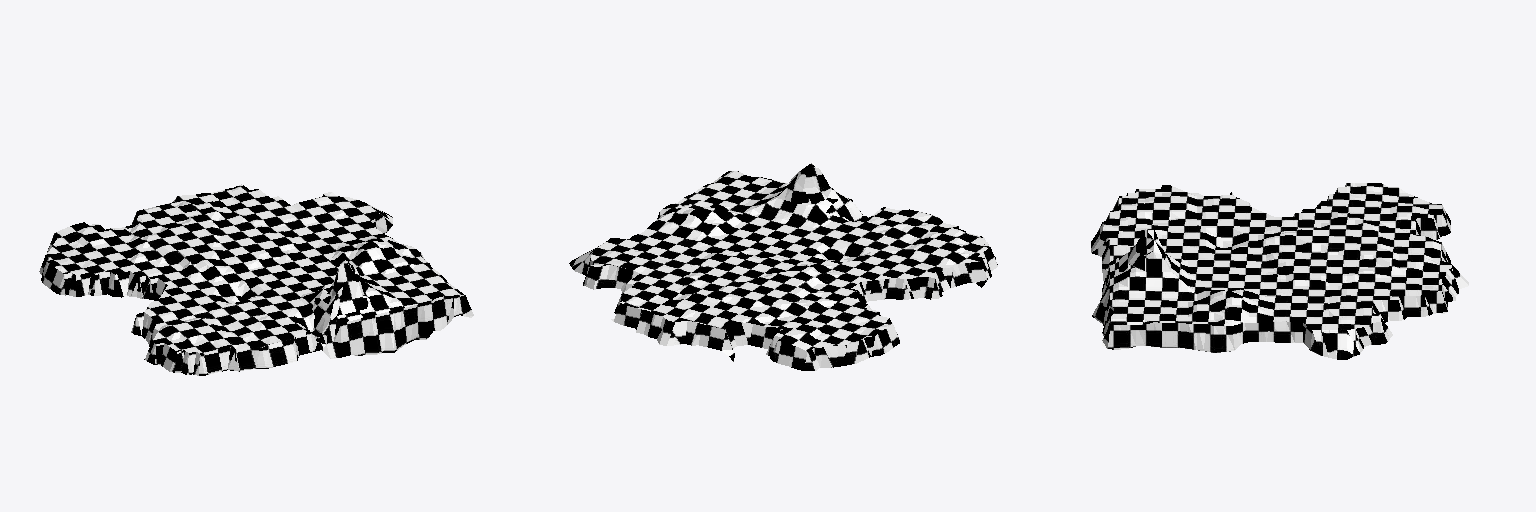
3 renders of one model, left to right at view 1: azimuth 30°, elevation 25°; view 2: azimuth 150°, elevation 25°; view 3: azimuth 270°, elevation 25°, orthographic.
Parts seen in each view (by area): view 1: Box005; view 2: Box005; view 3: Box005.
Part boxes in pixels (x1,y1,x2,y2): Box005: (39,184,473,375); Box005: (569,162,997,370); Box005: (1091,183,1468,359).
Bounding box in the file's own units: 1608 × 359 × 1589.
1 materials, 1 textured.